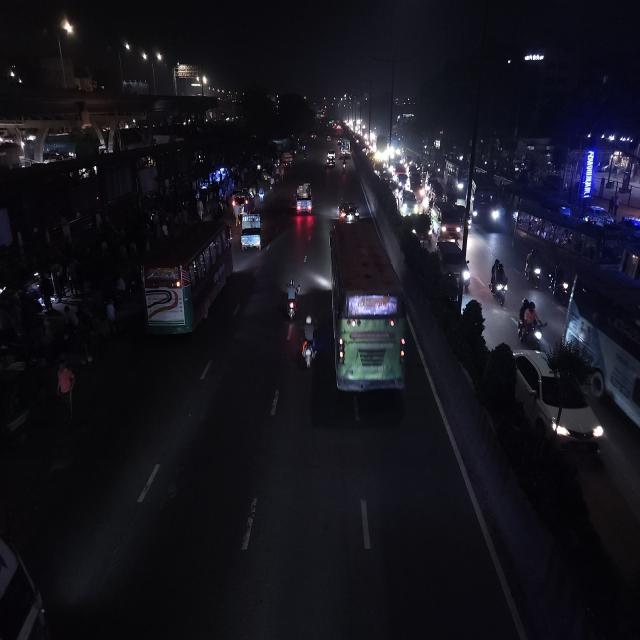bus: (328, 217, 408, 411), (137, 218, 233, 347), (563, 268, 640, 408), (466, 171, 502, 231), (374, 134, 390, 162)
car: (435, 234, 471, 290), (430, 196, 468, 244), (409, 210, 433, 252), (396, 186, 422, 219), (340, 200, 359, 223), (326, 151, 336, 166)
motorcycle: (516, 296, 546, 350), (298, 311, 318, 377), (489, 254, 509, 308), (282, 276, 300, 325), (523, 246, 543, 288)
pedestrian: (54, 360, 76, 415), (101, 295, 117, 334)
pickup_van: (237, 206, 263, 253), (294, 179, 314, 218)
